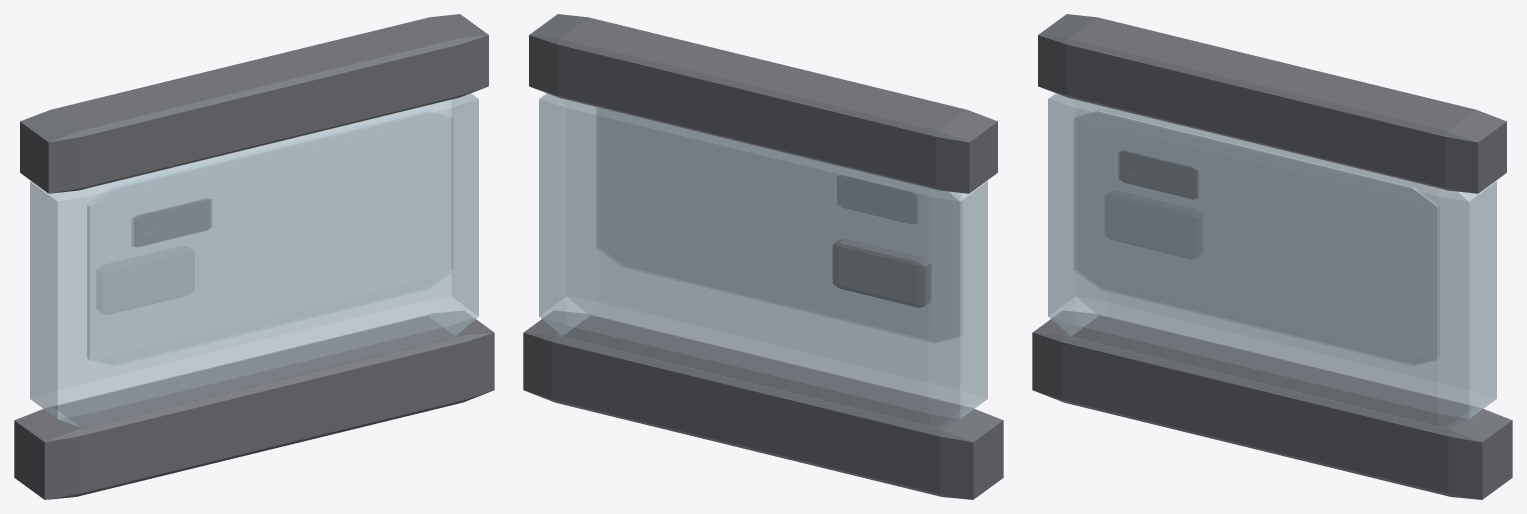
Rendered from b12_industrial_steel_grid_window.glb.
The picture shows the model from 3 angles, left to right: view 1: azimuth 30°, elevation 25°; view 2: azimuth 150°, elevation 25°; view 3: azimuth 330°, elevation 25°; orthographic projection.
Parts seen in each view (by area): view 1: b12_industrial_steel_grid_window; view 2: b12_industrial_steel_grid_window; view 3: b12_industrial_steel_grid_window.
Part boxes in pixels (left/top/right/bottom): b12_industrial_steel_grid_window: left=14, top=14, right=494, bottom=499; b12_industrial_steel_grid_window: left=523, top=14, right=1003, bottom=499; b12_industrial_steel_grid_window: left=1032, top=14, right=1512, bottom=499.
Size of the model in its own units: 2.66 by 2.06 by 0.36.
